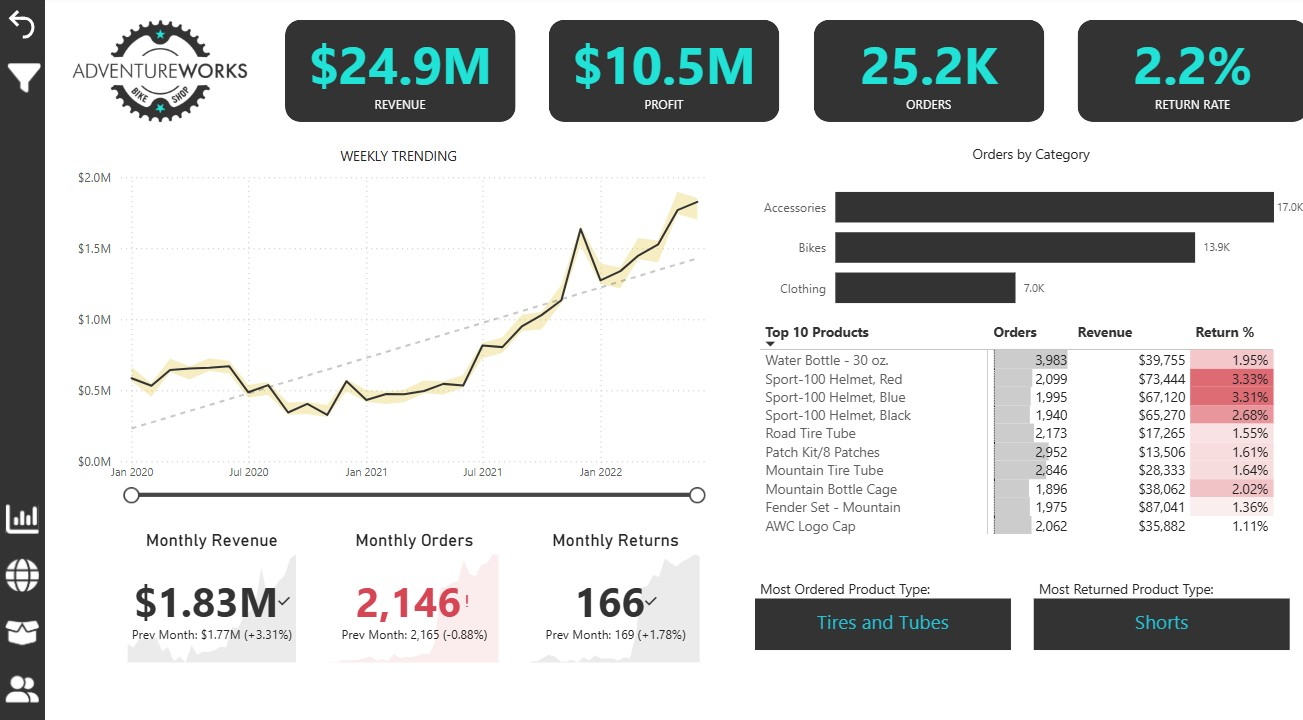

Layout of this report page (visuals, bound fields, positions):
{"tool":"powerbi","page":{"name":"Executive Dashboard","canvas":[1280,720],"ordinal":0},"visuals":[{"type":"image","title":"AW Logo","box":[47.1,1.4,218.6,144.3],"z":0},{"type":"group","id":"g1","title":"KPI Backgrounds","box":[278.6,23.8,1001,100.5],"z":0,"group":"g3"},{"type":"shape","box":[278.6,24.3,225.7,100],"z":0,"group":"g1"},{"type":"card","fields":{"Values":["Measure Table.Total Revenue"]},"box":[278.6,24.3,225.7,100],"z":0,"group":"g2"},{"type":"actionButton","box":[0,491.6,44,40.4],"z":0,"group":"g4"},{"type":"shape","title":"Left Nav background","box":[0,1.4,44.3,718.6],"z":1000},{"type":"shape","box":[537,23.8,225.7,100],"z":1000,"group":"g1"},{"type":"group","id":"g2","title":"KPI Values","box":[278.6,24.3,1001.4,100],"z":1000,"group":"g3"},{"type":"card","fields":{"Values":["Measure Table.Total Profit"]},"box":[537.2,24.3,225.7,100],"z":1000,"group":"g2"},{"type":"actionButton","box":[0,602.5,44,40.4],"z":1000,"group":"g4"},{"type":"group","id":"g3","title":"KPIs","box":[278.6,23.8,1001.4,100.5],"z":2000},{"type":"shape","box":[795.4,23.8,225.7,100],"z":2000,"group":"g1"},{"type":"card","fields":{"Values":["Measure Table.Total Orders"]},"box":[795.7,24.3,225.7,100],"z":2000,"group":"g2"},{"type":"actionButton","box":[0,657.9,44,40.4],"z":2000,"group":"g4"},{"type":"shape","box":[1053.8,23.8,225.7,100],"z":3000,"group":"g1"},{"type":"card","fields":{"Values":["Measure Table.Return Rate"]},"box":[1054.3,24.3,225.7,100],"z":3000,"group":"g2"},{"type":"lineChart","title":"WEEKLY TRENDING","fields":{"Y":["Measure Table.Total Revenue"],"Category":["Calendar Lookup.Start of Month"]},"box":[71.2,146.2,637.5,352.5],"z":3000},{"type":"actionButton","box":[0,547,44,40.4],"z":3000,"group":"g4"},{"type":"kpi","title":"Monthly Revenue","fields":{"Indicator":["Measure Table.Total Revenue"],"TrendLine":["Calendar Lookup.Start of Month"],"Goal":["Measure Table.Previous Month Revenue"]},"box":[120,522.5,175,135],"z":4000},{"type":"kpi","title":"Monthly Orders","fields":{"TrendLine":["Calendar Lookup.Start of Month"],"Indicator":["Measure Table.Total Orders"],"Goal":["Measure Table.Previous Month Orders"]},"box":[317.5,522.5,175,135],"z":5000},{"type":"kpi","title":"Monthly Returns","fields":{"TrendLine":["Calendar Lookup.Start of Month"],"Indicator":["Measure Table.Total Returns"],"Goal":["Measure Table.Previous Month Returns"]},"box":[515,522.5,175,135],"z":6000},{"type":"clusteredBarChart","title":"Orders by Category ","fields":{"Category":["Product Categories Lookup.CategoryName"],"Y":["Measure Table.Total Orders"]},"box":[737.5,145,542.5,177.5],"z":7000},{"type":"pivotTable","fields":{"Rows":["Product Lookup.ProductName"],"Values":["Measure Table.Total Orders","Measure Table.Total Revenue","Measure Table.Return Rate"]},"box":[738.3,314.3,541.7,222.6],"z":8000},{"type":"card","fields":{"Values":["Min(Product Subcategories Lookup.SubcategoryName)"]},"box":[738.6,589.4,250.7,50.1],"z":9000},{"type":"textbox","box":[738.6,566.2,194.4,29.3],"z":10000},{"type":"card","fields":{"Values":["Min(Product Subcategories Lookup.SubcategoryName)"]},"box":[1010.8,589.6,250.7,50.1],"z":11000},{"type":"textbox","box":[1010.8,566.4,194.4,29.3],"z":12000},{"type":"actionButton","box":[2.4,8.6,44,37.9],"z":13000},{"type":"group","id":"g4","title":"Navigation Buttons","box":[0,491.6,44,206.7],"z":14000},{"type":"actionButton","box":[3.7,59.9,44,40.4],"z":15000}]}

Visuals, with their boxes on the page's 1280x720 design canvas (x1, y1, x2, y2). These are canvas units, not pixel positions in the 1303x720 screenshot, which may show the page scaled, cropped or inside an application window:
"AW Logo" image: detection(47, 1, 266, 146)
"KPI Backgrounds" group: detection(279, 24, 1280, 124)
shape: detection(279, 24, 504, 124)
card - Measure Table.Total Revenue: detection(279, 24, 504, 124)
actionButton: detection(0, 492, 44, 532)
"Left Nav background" shape: detection(0, 1, 44, 720)
shape: detection(537, 24, 763, 124)
"KPI Values" group: detection(279, 24, 1280, 124)
card - Measure Table.Total Profit: detection(537, 24, 763, 124)
actionButton: detection(0, 602, 44, 643)
"KPIs" group: detection(279, 24, 1280, 124)
shape: detection(795, 24, 1021, 124)
card - Measure Table.Total Orders: detection(796, 24, 1021, 124)
actionButton: detection(0, 658, 44, 698)
shape: detection(1054, 24, 1280, 124)
card - Measure Table.Return Rate: detection(1054, 24, 1280, 124)
"WEEKLY TRENDING" lineChart: detection(71, 146, 709, 499)
actionButton: detection(0, 547, 44, 587)
"Monthly Revenue" kpi: detection(120, 522, 295, 658)
"Monthly Orders" kpi: detection(318, 522, 492, 658)
"Monthly Returns" kpi: detection(515, 522, 690, 658)
"Orders by Category " clusteredBarChart: detection(738, 145, 1280, 322)
pivotTable - Product Lookup.ProductName x Measure Table.Total Orders: detection(738, 314, 1280, 537)
card - Min(Product Subcategories Lookup.SubcategoryName): detection(739, 589, 989, 640)
textbox: detection(739, 566, 933, 596)
card - Min(Product Subcategories Lookup.SubcategoryName): detection(1011, 590, 1262, 640)
textbox: detection(1011, 566, 1205, 596)
actionButton: detection(2, 9, 46, 46)
"Navigation Buttons" group: detection(0, 492, 44, 698)
actionButton: detection(4, 60, 48, 100)
